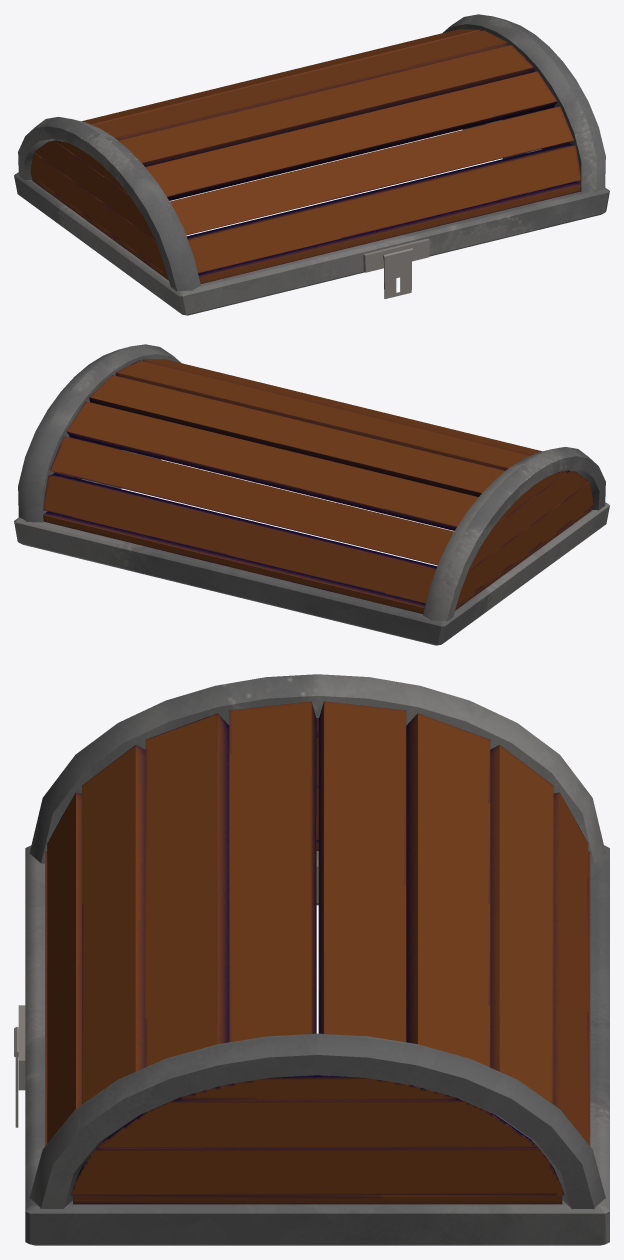
Rendered from ChestTop.fbx.
3 views of the same model, one above another, from view 1: azimuth 30°, elevation 25°; view 2: azimuth 150°, elevation 25°; view 3: azimuth 270°, elevation 25° (orthographic). The views are drawn at different scales.
Visible parts, largest first — view 1: Wood_Top, Top_Base_Metal_Edge, R_Top_Metal_Edge, R_Side_Top_Wood, L_Top_Metal_Edge, Lock_Hinge_Latch, Lock_Top_Base; view 2: Wood_Top, Top_Base_Metal_Edge, R_Top_Metal_Edge, R_Side_Top_Wood, L_Top_Metal_Edge; view 3: Wood_Top, L_Side_Top_Wood, Top_Base_Metal_Edge, L_Top_Metal_Edge, R_Top_Metal_Edge.
Part boxes in pixels (box(x1,y1,x2,y2)): Wood_Top: box(82, 29, 580, 283); Top_Base_Metal_Edge: box(14, 120, 609, 315); R_Top_Metal_Edge: box(18, 117, 200, 291); R_Side_Top_Wood: box(30, 140, 168, 280); L_Top_Metal_Edge: box(443, 14, 605, 192); Lock_Hinge_Latch: box(383, 248, 413, 298); Lock_Top_Base: box(363, 238, 429, 272); Wood_Top: box(43, 359, 541, 613); Top_Base_Metal_Edge: box(14, 450, 609, 645); R_Top_Metal_Edge: box(423, 447, 605, 621); R_Side_Top_Wood: box(455, 470, 593, 610); L_Top_Metal_Edge: box(18, 344, 180, 522); Wood_Top: box(45, 701, 590, 1146); L_Side_Top_Wood: box(71, 1075, 564, 1204); Top_Base_Metal_Edge: box(25, 845, 609, 1245); L_Top_Metal_Edge: box(29, 1033, 605, 1208); R_Top_Metal_Edge: box(29, 674, 605, 863).
Size of the model in its own units: 10.74 by 3.45 by 7.11.
